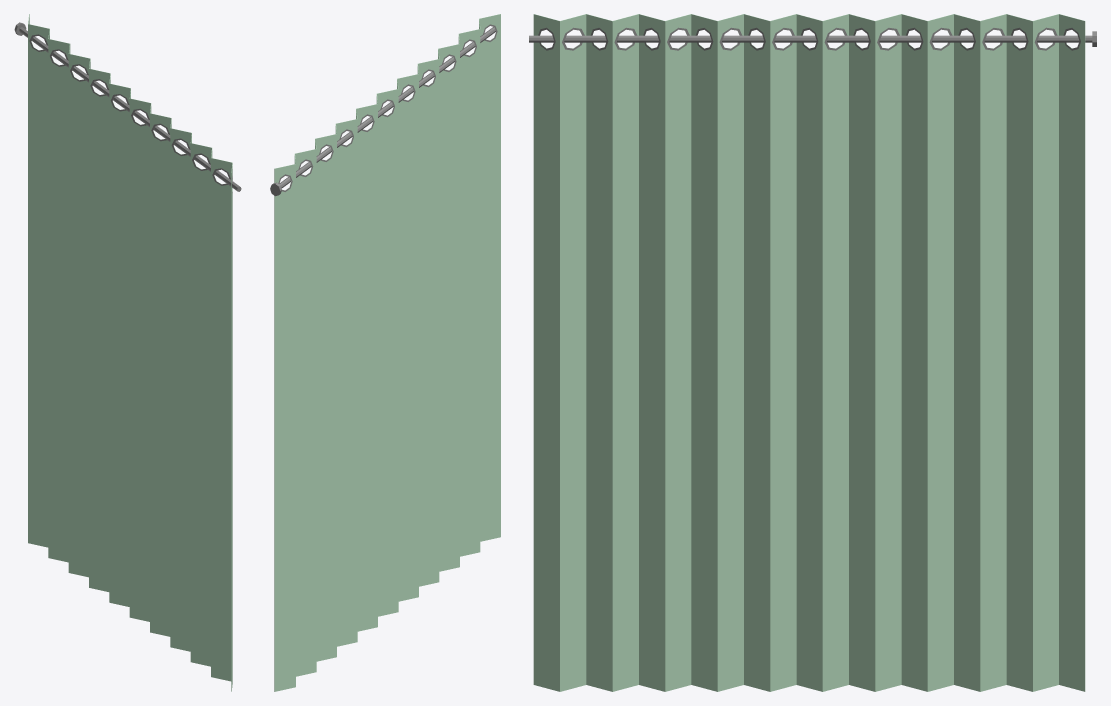
Rendered from Cortina.fbx.
3 views of the same model, side by side, from view 1: azimuth 30°, elevation 25°; view 2: azimuth 150°, elevation 25°; view 3: azimuth 270°, elevation 25° (orthographic). The views are drawn at different scales.
Parts seen in each view (by area): view 1: Curtains; view 2: Curtains; view 3: Curtains.
Boxes of the visible parts, box(x1,y1,x2,y2) form: Curtains: box(14, 14, 241, 691); Curtains: box(270, 14, 500, 691); Curtains: box(529, 14, 1096, 691).
Size of the model in its own units: 5.45 by 234 by 179.
